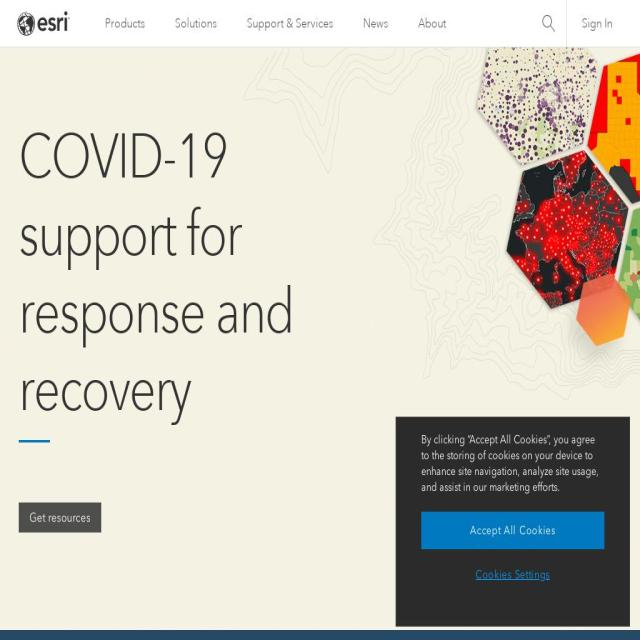button: (422, 511, 604, 549), (422, 557, 604, 593), (232, 0, 349, 47), (160, 0, 232, 47), (90, 0, 161, 47), (566, 0, 628, 47), (403, 0, 462, 47), (348, 0, 404, 47), (19, 502, 102, 532), (531, 0, 566, 47), (18, 10, 70, 37)
heading: (19, 118, 318, 428)
image: (18, 10, 70, 37), (541, 14, 556, 34), (18, 440, 51, 442)
text: (396, 431, 630, 512), (247, 15, 334, 32), (175, 15, 217, 32), (105, 15, 146, 32), (418, 15, 447, 32), (363, 15, 389, 32)
